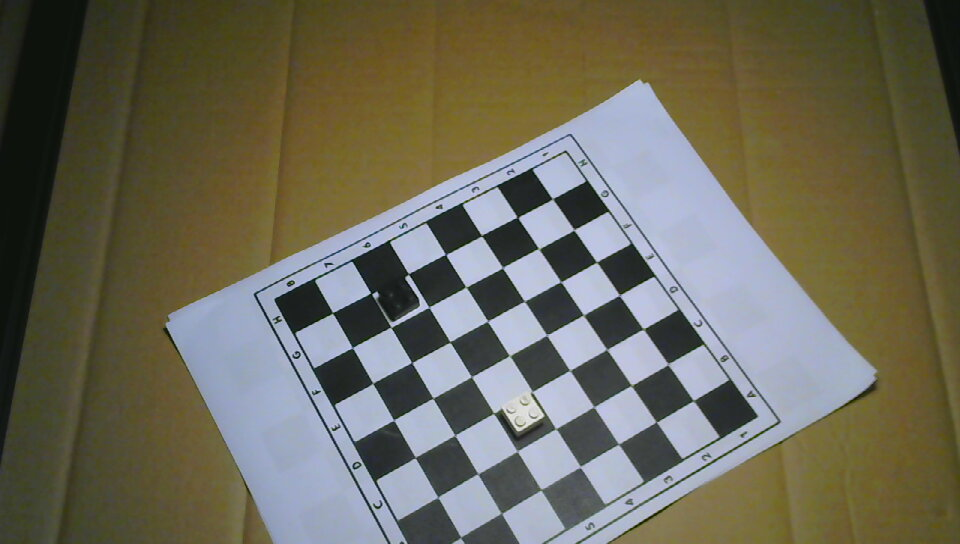bp: (378, 278, 419, 321)
wp: (499, 391, 546, 439)
